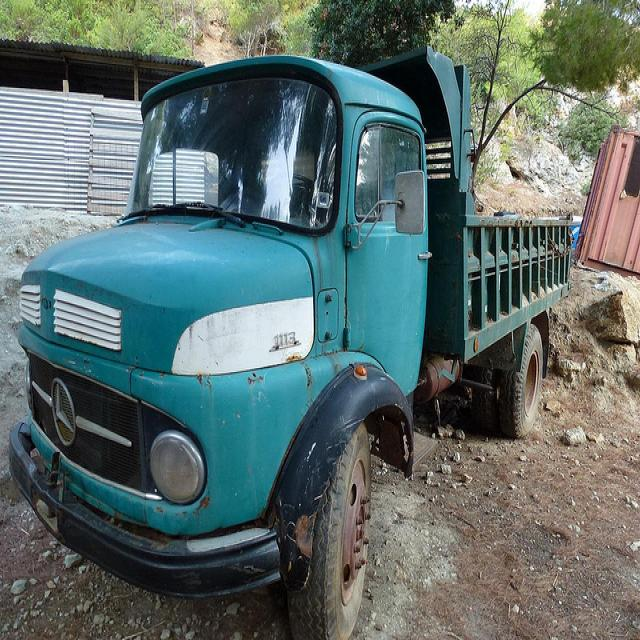Vehicle: (5, 46, 588, 639)
